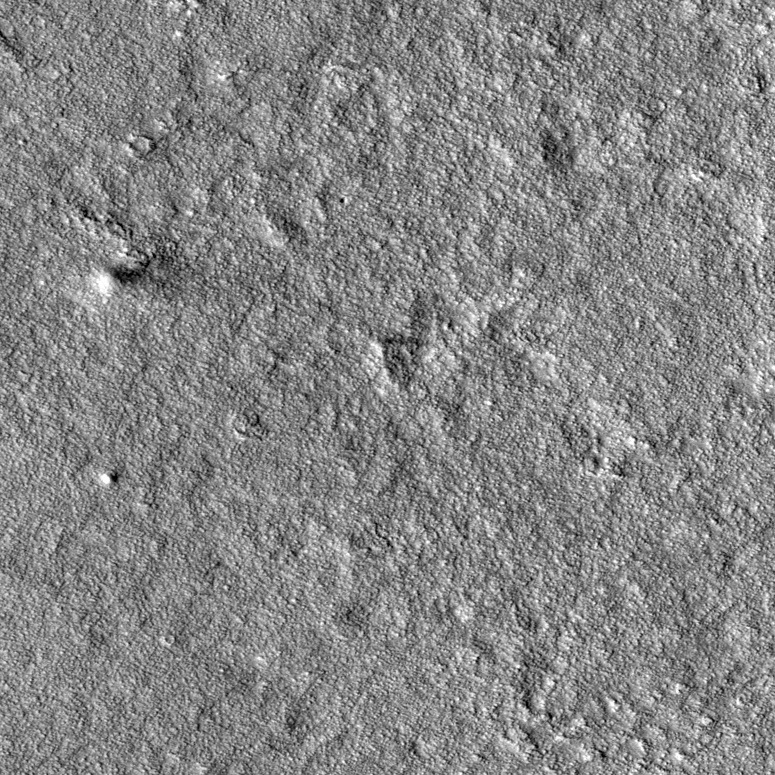dust_devil: (95, 258, 151, 298)
